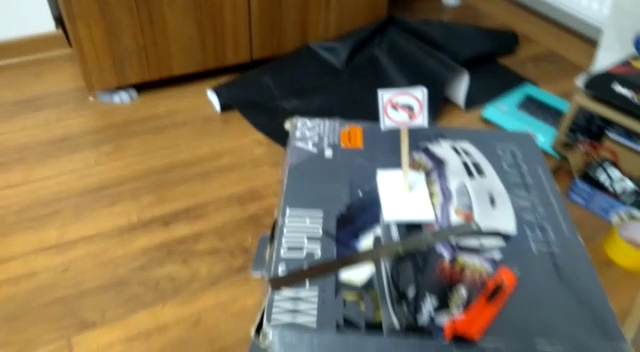sola_donulmez: (381, 89, 423, 125)
